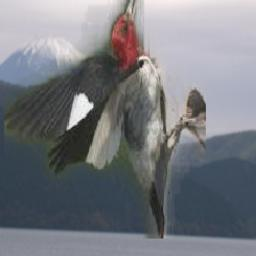Woodpecker: (5, 0, 207, 239)
